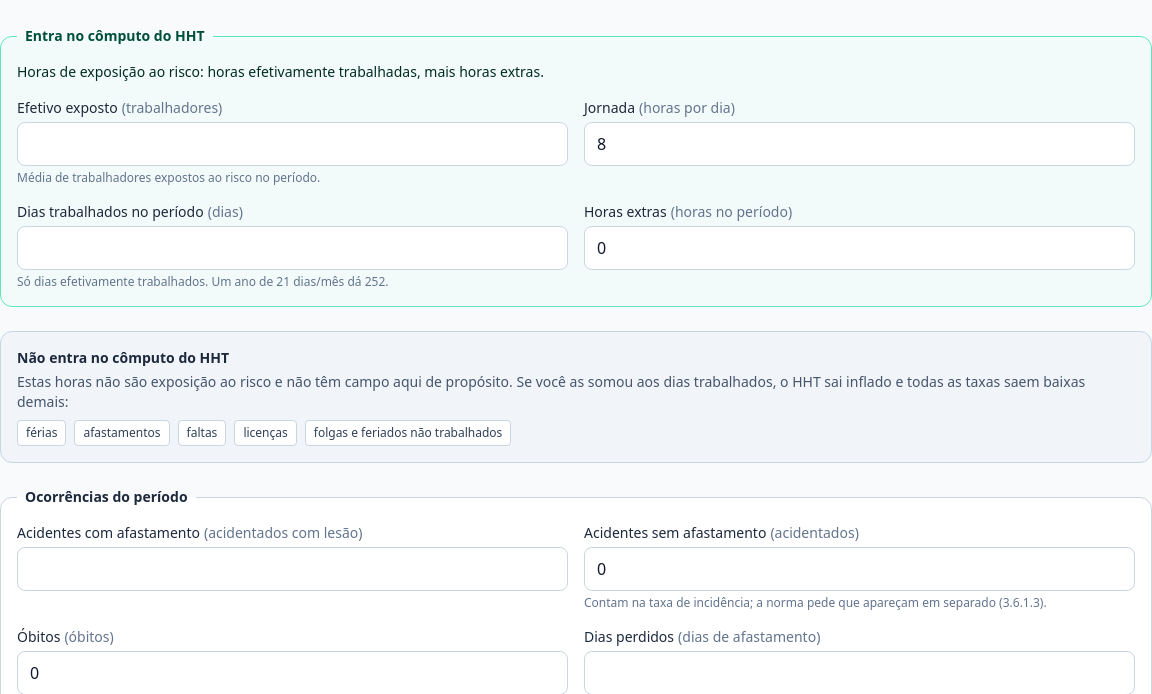
Test: efetivo zero › explica que o HHT é zero em vez de exibir NaN
Type "0" into the field labelled "Efetivo exposto(trabalhadores)" at (292, 144), box [17,122,568,166]
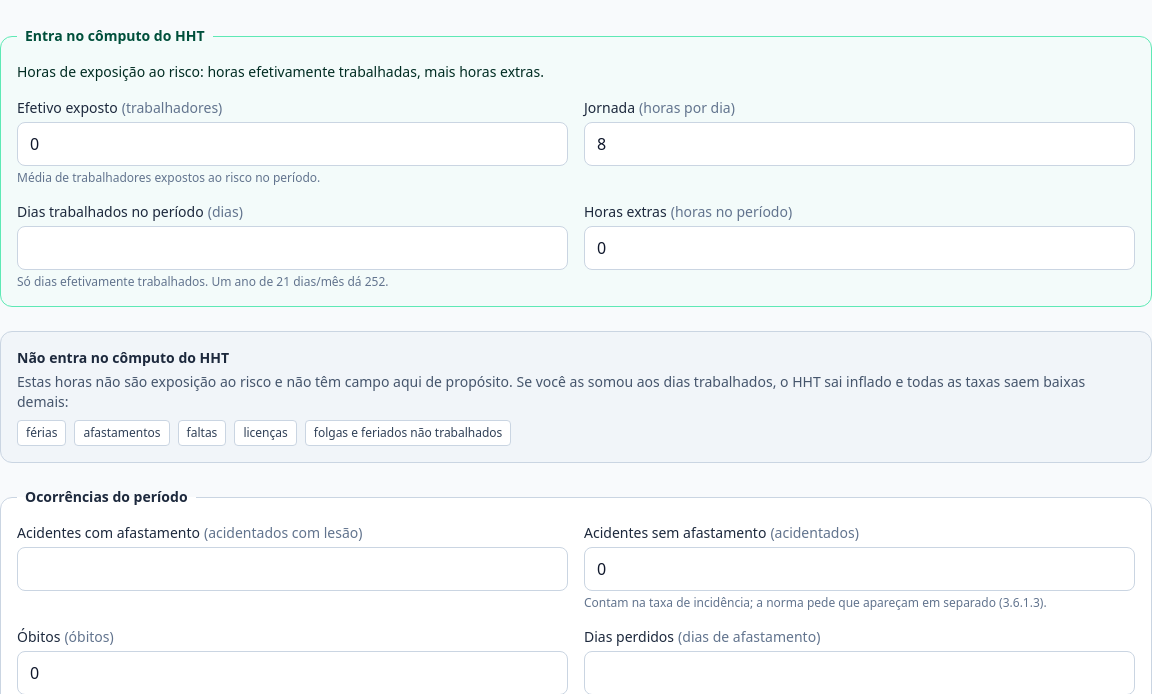
Type "252" into the field labelled "Dias trabalhados no período(dias)" at (292, 248), box [17,226,568,270]
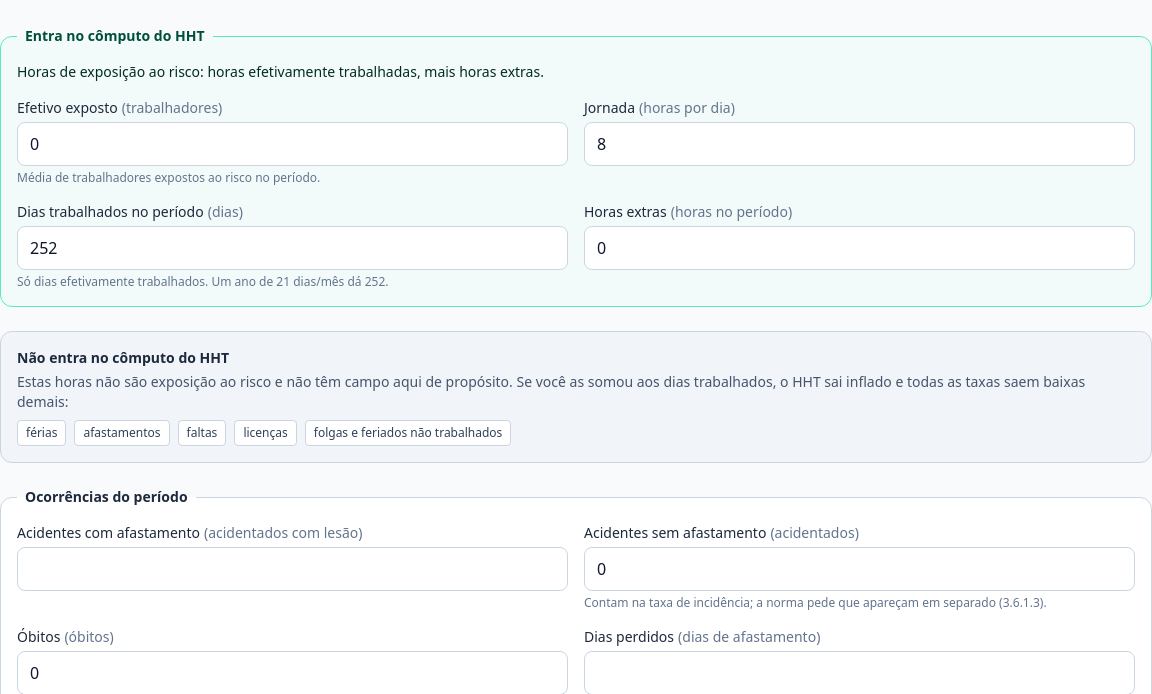
Type "5" into the field labelled "Acidentes com afastamento(acidentados com lesão)" at (292, 569), box [17,547,568,591]
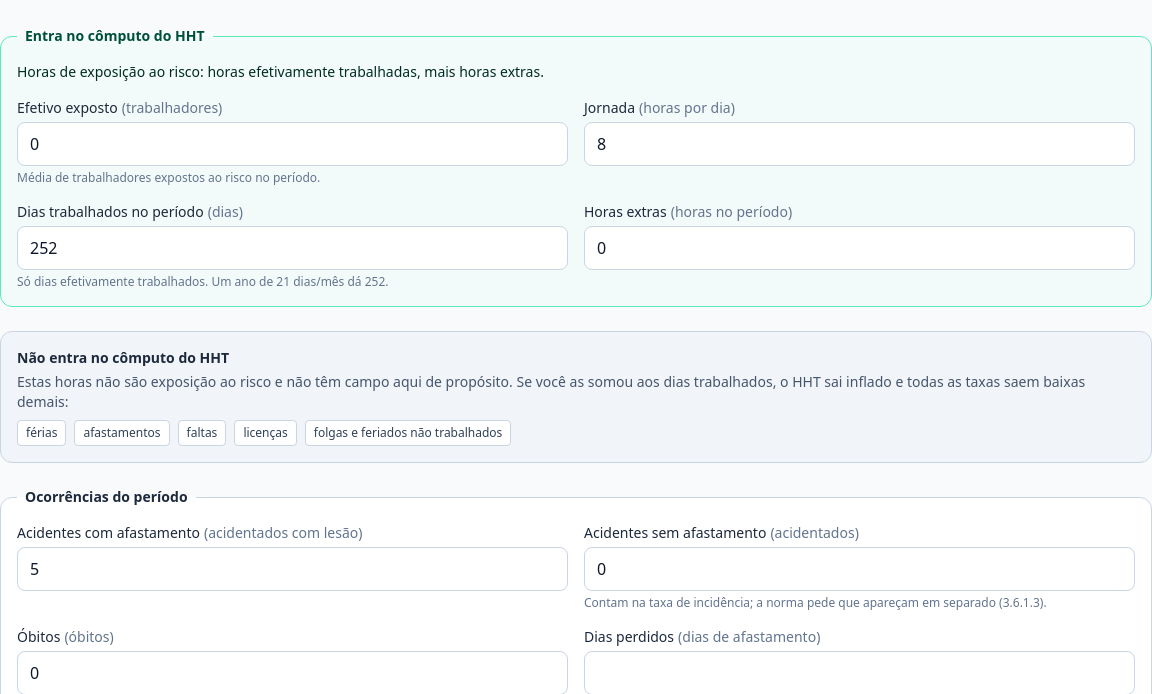
Type "120" into the field labelled "Dias perdidos(dias de afastamento)" at (860, 673), box [584,651,1135,693]
(page scrolled)
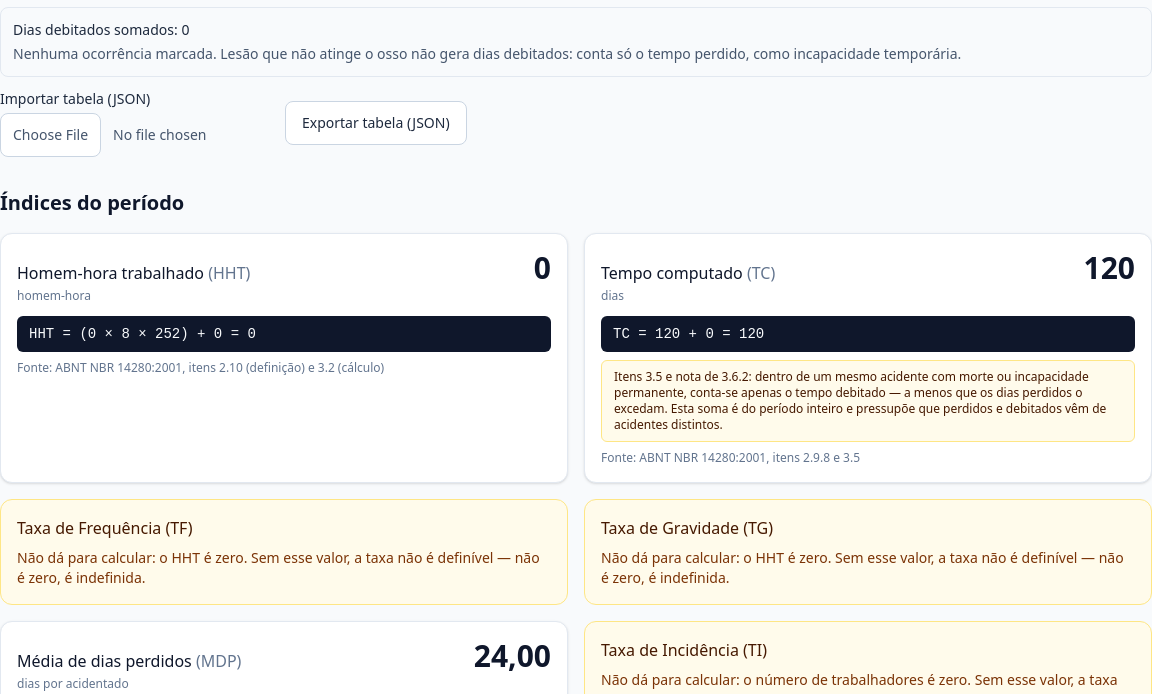
Check: the text "o HHT é zero" below "Taxa de Frequência (TF)" is shown, box [17,548,540,587]
Check: the text "HHT = (0 × 8 × 252) + 0 = 0" is shown, box [17,316,551,352]
